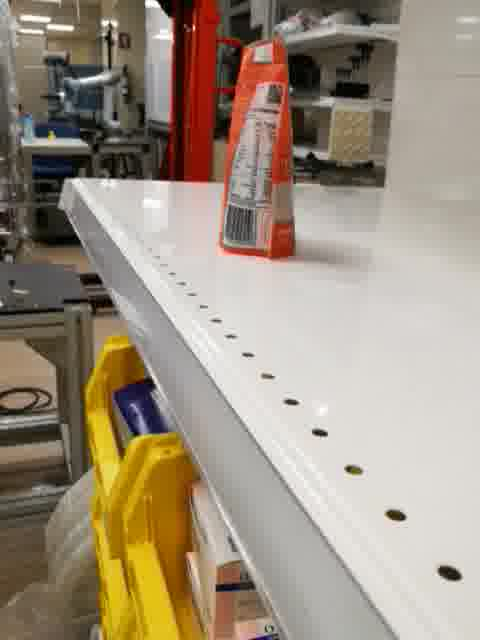whitechia: (214, 34, 300, 262)
